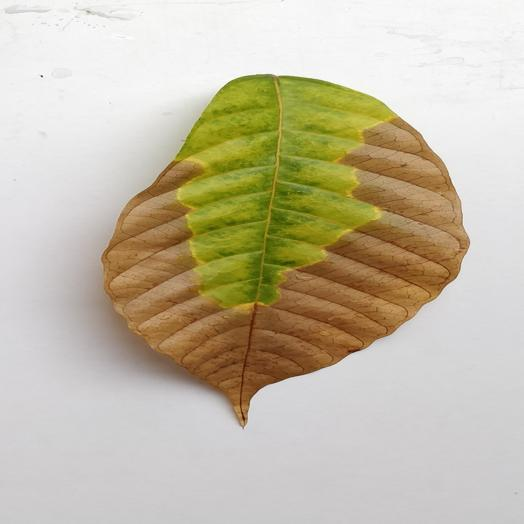Potassium: (104, 74, 468, 425)
